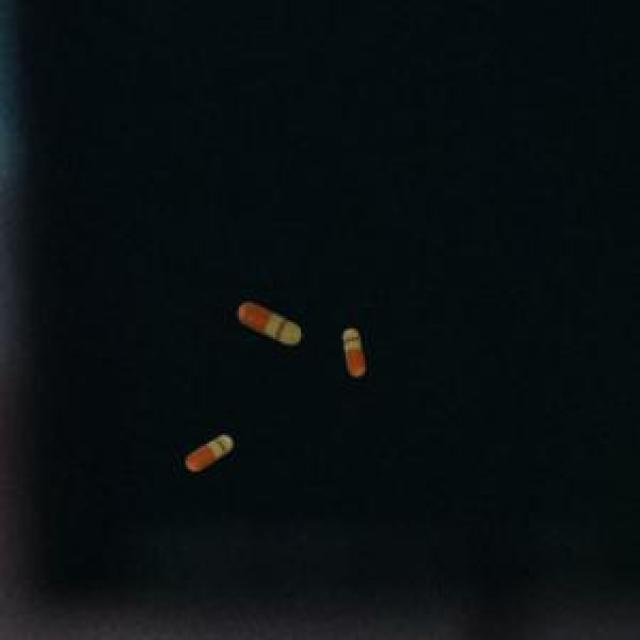Alaxan: (226, 293, 310, 361), (171, 425, 245, 476), (331, 313, 373, 385)
